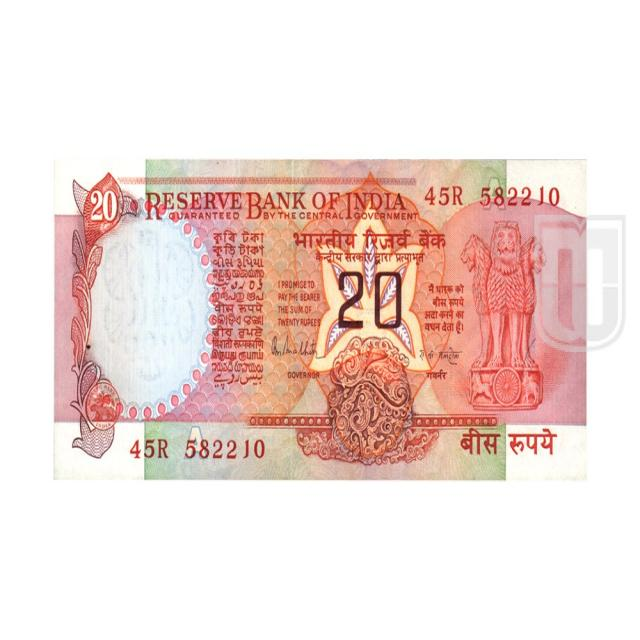20rs: (50, 144, 639, 491)
